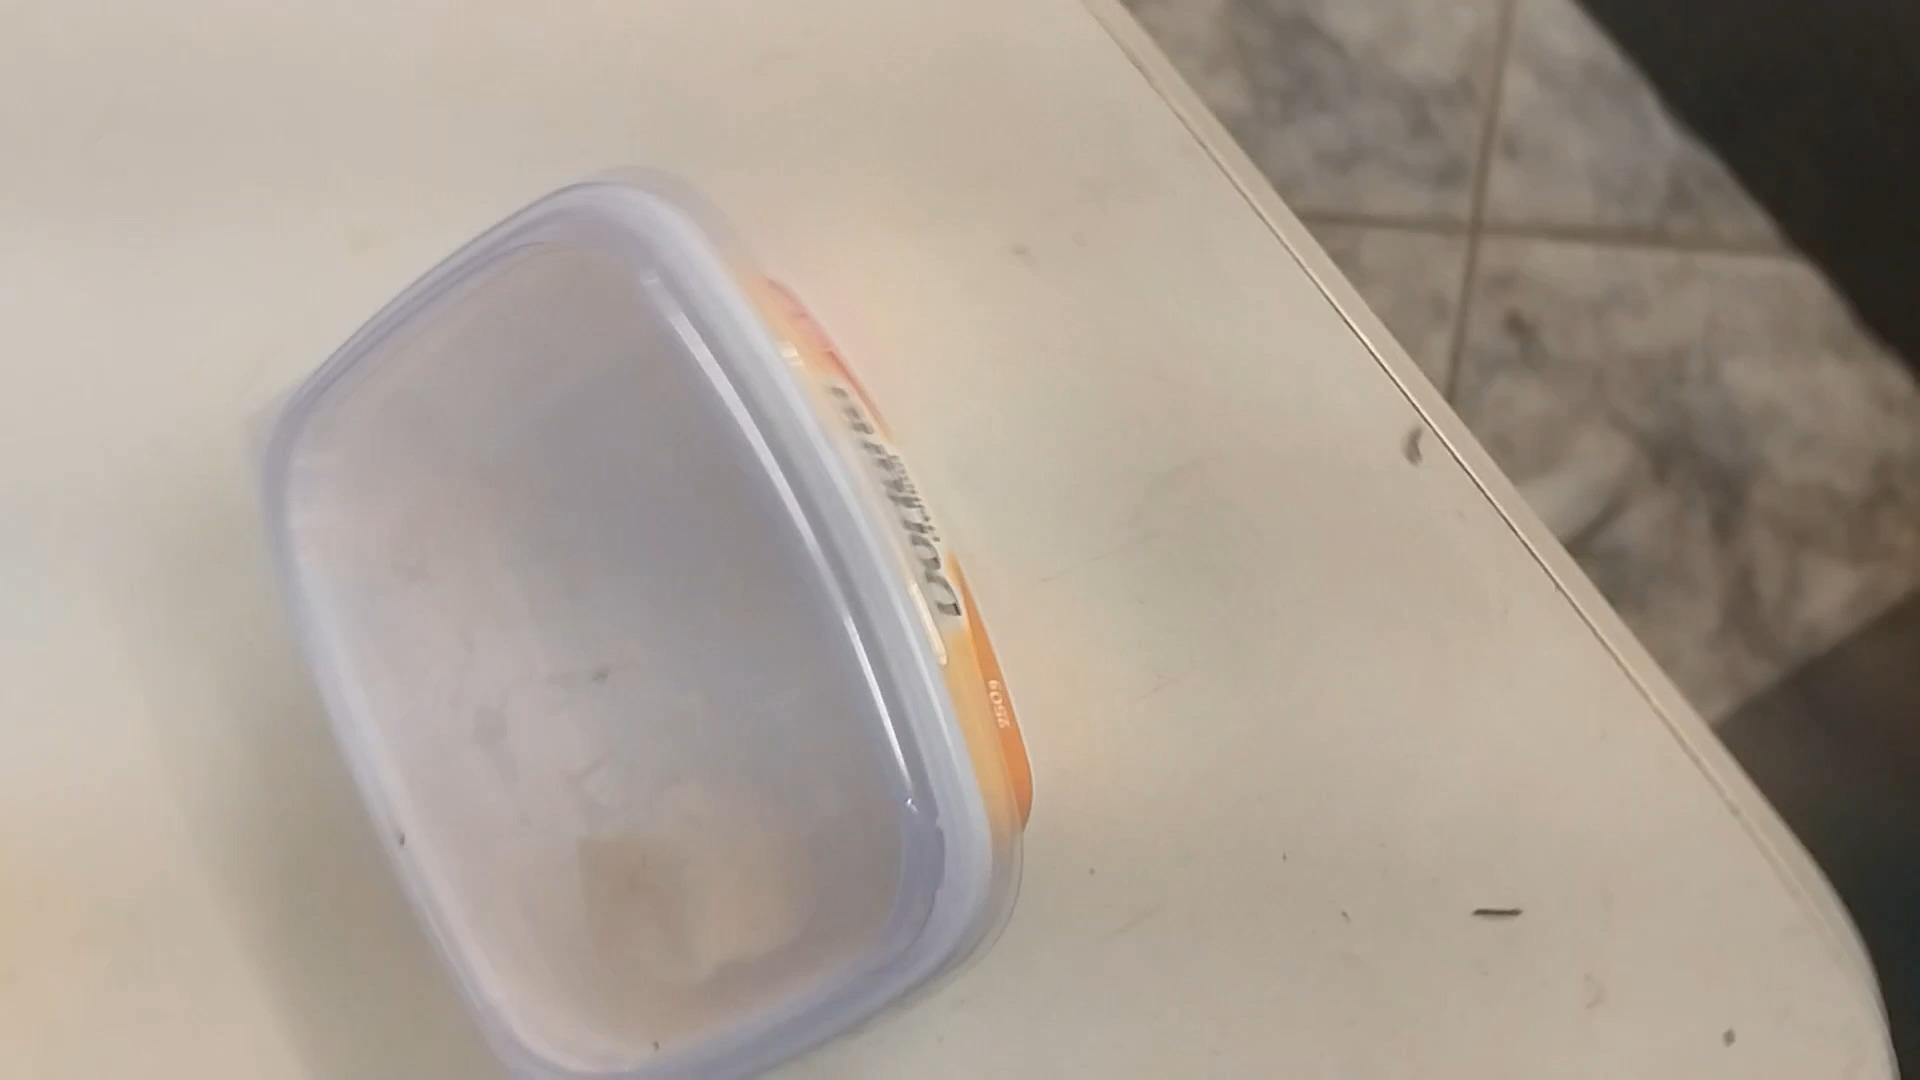butter: (268, 182, 1002, 1076)
